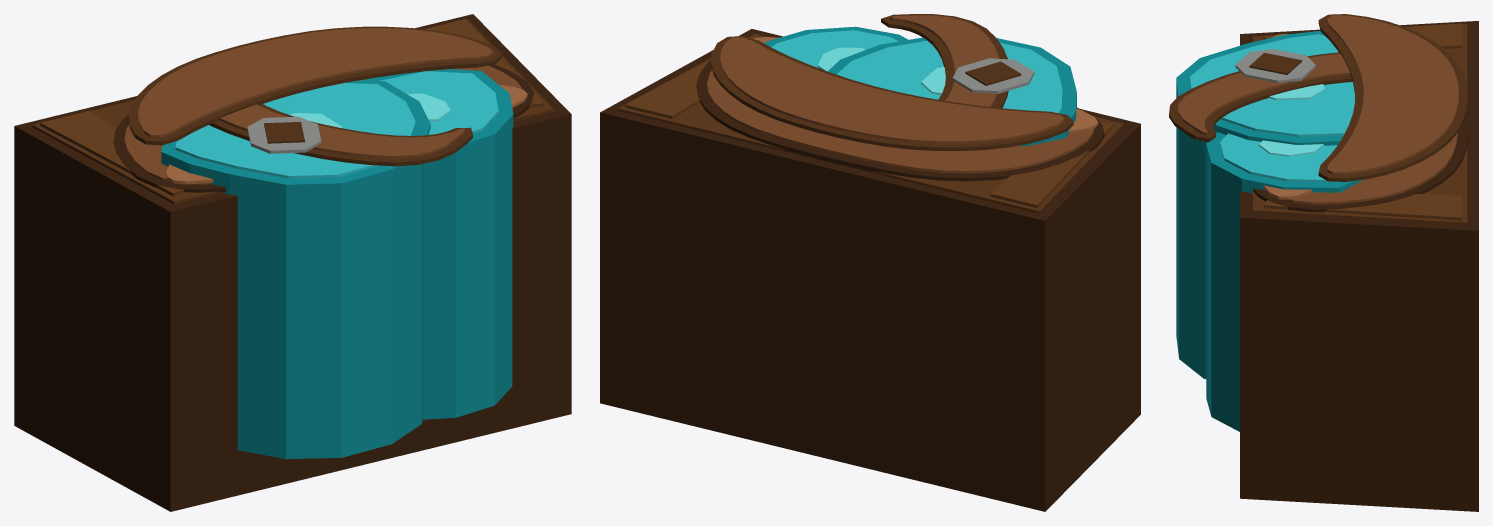
File: bag_bolsa_cristal.fbx
3 renders of one model, left to right at view 1: azimuth 30°, elevation 25°; view 2: azimuth 150°, elevation 25°; view 3: azimuth 270°, elevation 25°, orthographic. The views are drawn at different scales.
Visible parts, largest first — view 1: bag_bolsa_cristal_mochila; view 2: bag_bolsa_cristal_mochila; view 3: bag_bolsa_cristal_mochila.
Part boxes in pixels (left/top/right/bottom): bag_bolsa_cristal_mochila: left=14, top=14, right=571, bottom=511; bag_bolsa_cristal_mochila: left=600, top=14, right=1140, bottom=511; bag_bolsa_cristal_mochila: left=1169, top=14, right=1478, bottom=511.
Size of the model in its own units: 2.85 by 1.98 by 1.78.
Materials: 1 (1 with a texture image).
